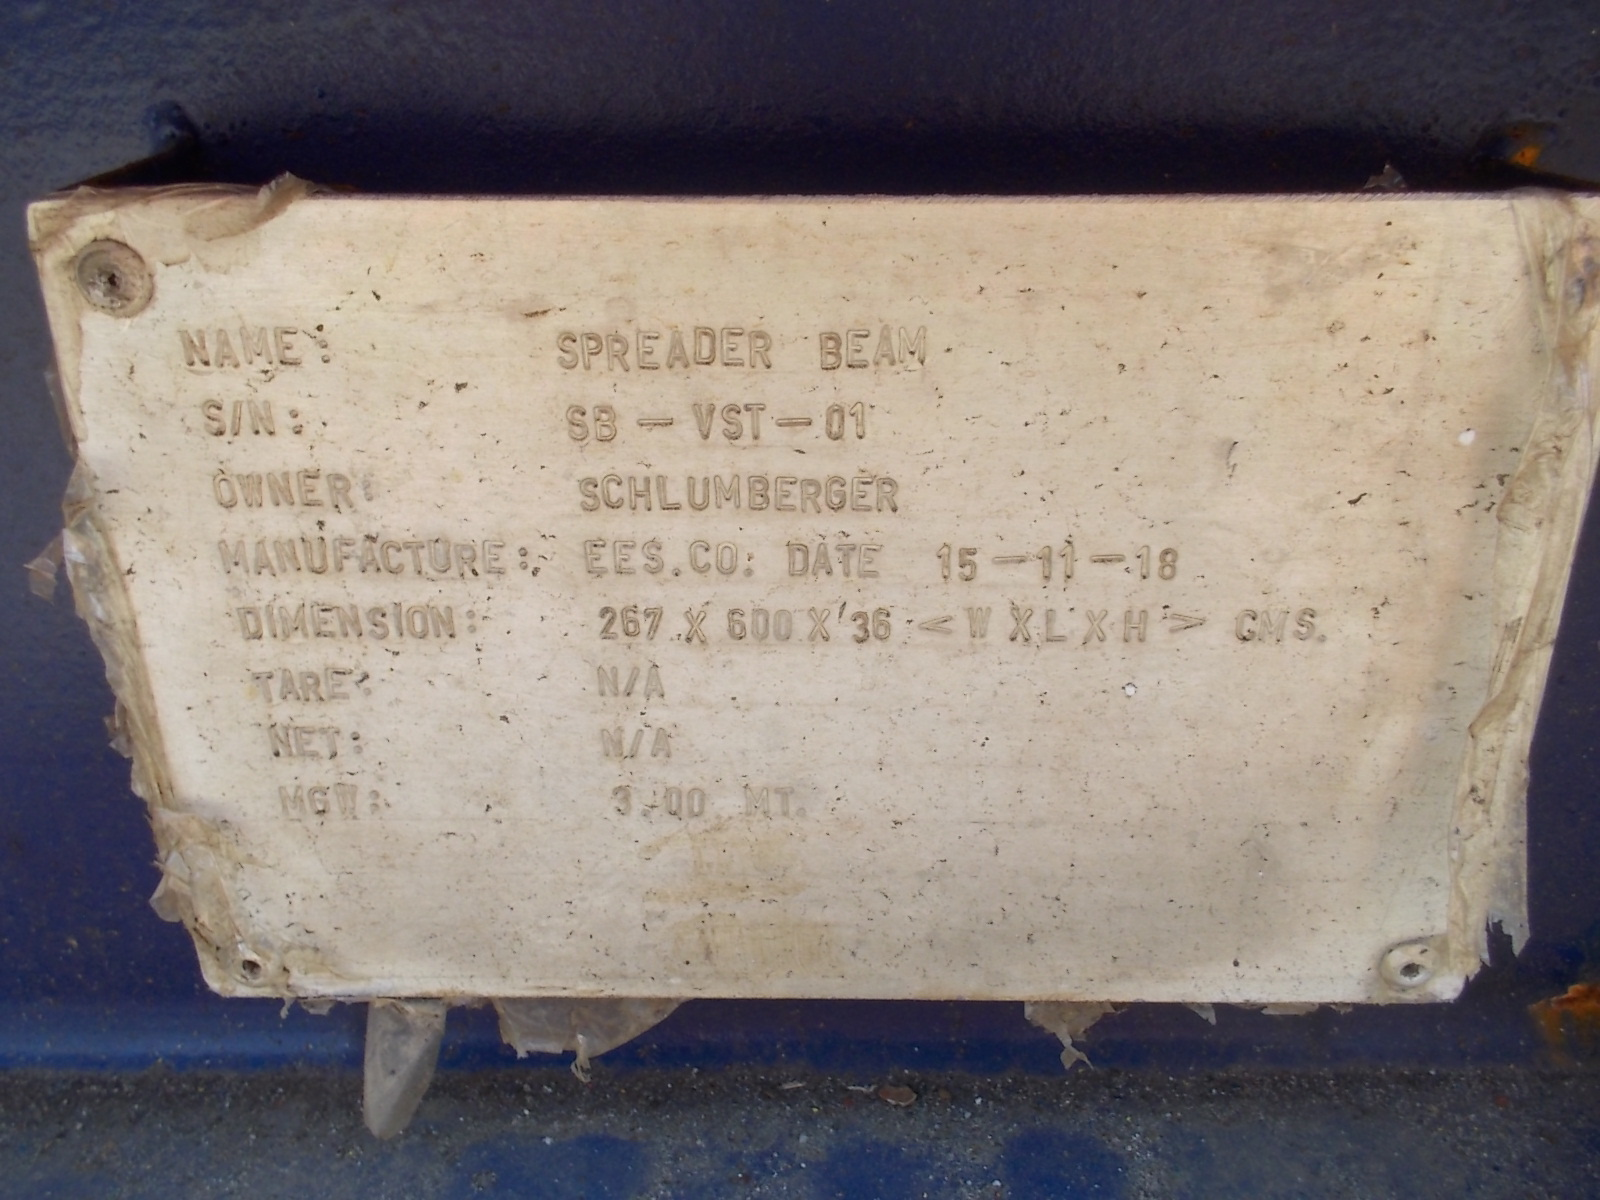character: (1153, 603, 1218, 637), (207, 534, 251, 584), (191, 396, 231, 451), (898, 321, 941, 372), (176, 321, 210, 381), (1000, 599, 1038, 652), (1227, 600, 1260, 657), (273, 316, 307, 371), (957, 599, 1000, 642), (237, 321, 273, 371), (323, 465, 359, 514), (300, 531, 333, 584), (733, 782, 774, 824), (559, 397, 590, 453), (1077, 604, 1114, 649), (712, 469, 745, 519), (1259, 601, 1291, 652), (1115, 603, 1150, 649), (578, 532, 610, 584), (631, 323, 661, 376), (477, 531, 509, 581), (689, 319, 718, 373), (718, 319, 747, 373), (685, 398, 718, 446), (513, 538, 546, 586), (210, 321, 237, 381), (273, 782, 307, 827), (643, 661, 677, 706), (912, 608, 957, 642), (246, 397, 278, 442), (803, 604, 835, 649), (571, 471, 602, 518), (588, 400, 617, 450), (551, 325, 581, 373), (819, 400, 849, 447), (333, 523, 357, 584), (636, 531, 666, 579), (624, 470, 655, 516), (869, 321, 898, 371), (655, 469, 685, 516), (597, 718, 627, 765), (610, 531, 636, 584), (603, 325, 631, 376), (627, 410, 678, 437), (283, 405, 323, 440), (1039, 608, 1070, 653), (685, 469, 712, 521), (747, 326, 776, 373), (840, 324, 869, 371), (326, 663, 355, 710), (813, 328, 843, 372), (207, 468, 237, 512), (876, 466, 902, 517), (661, 325, 689, 373), (294, 718, 321, 766), (591, 664, 624, 705), (237, 466, 266, 512), (294, 465, 323, 511), (745, 469, 774, 514), (801, 470, 826, 522), (609, 782, 643, 819), (404, 531, 430, 581), (648, 724, 679, 764), (826, 469, 850, 522), (850, 469, 877, 517), (380, 531, 404, 584), (309, 596, 336, 642), (231, 605, 263, 643), (718, 400, 745, 446), (266, 466, 294, 511), (774, 470, 801, 514), (278, 601, 309, 642), (362, 603, 392, 643), (745, 400, 770, 447), (782, 539, 811, 581), (682, 608, 711, 649), (300, 664, 326, 710), (267, 721, 294, 766), (452, 534, 477, 581), (333, 782, 362, 822), (357, 536, 380, 584), (1291, 601, 1315, 649), (847, 400, 872, 445), (1155, 538, 1180, 584), (687, 534, 713, 577), (272, 533, 300, 574), (858, 542, 888, 579), (588, 605, 619, 642), (771, 603, 797, 644), (581, 325, 603, 373), (307, 782, 331, 827), (251, 533, 272, 584), (774, 782, 799, 824), (955, 543, 981, 584), (772, 410, 816, 434), (430, 533, 454, 577), (336, 601, 362, 643), (252, 667, 277, 708), (602, 470, 624, 518), (932, 539, 955, 584), (1058, 539, 1081, 584), (277, 664, 300, 708), (682, 787, 708, 824), (430, 603, 455, 642), (845, 608, 871, 647), (871, 606, 896, 645), (643, 603, 665, 645), (748, 603, 771, 645), (713, 541, 740, 577), (619, 601, 643, 642), (1089, 550, 1133, 571), (811, 539, 834, 581), (834, 539, 858, 579), (724, 606, 748, 645), (348, 727, 372, 766), (314, 334, 338, 372), (406, 604, 430, 642), (989, 550, 1033, 568), (663, 782, 682, 824), (1034, 542, 1054, 581), (627, 724, 648, 763), (323, 718, 341, 760), (622, 661, 641, 702), (1136, 545, 1155, 584), (231, 395, 246, 441), (368, 784, 386, 822), (263, 601, 278, 643), (392, 596, 406, 640), (462, 604, 483, 633), (743, 550, 760, 579), (358, 664, 372, 695), (796, 803, 810, 822), (669, 563, 682, 582), (1317, 633, 1330, 649)
